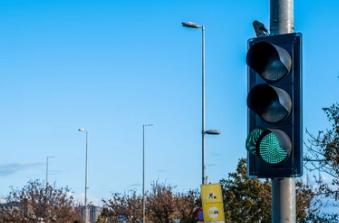green_light: (246, 32, 302, 177)
